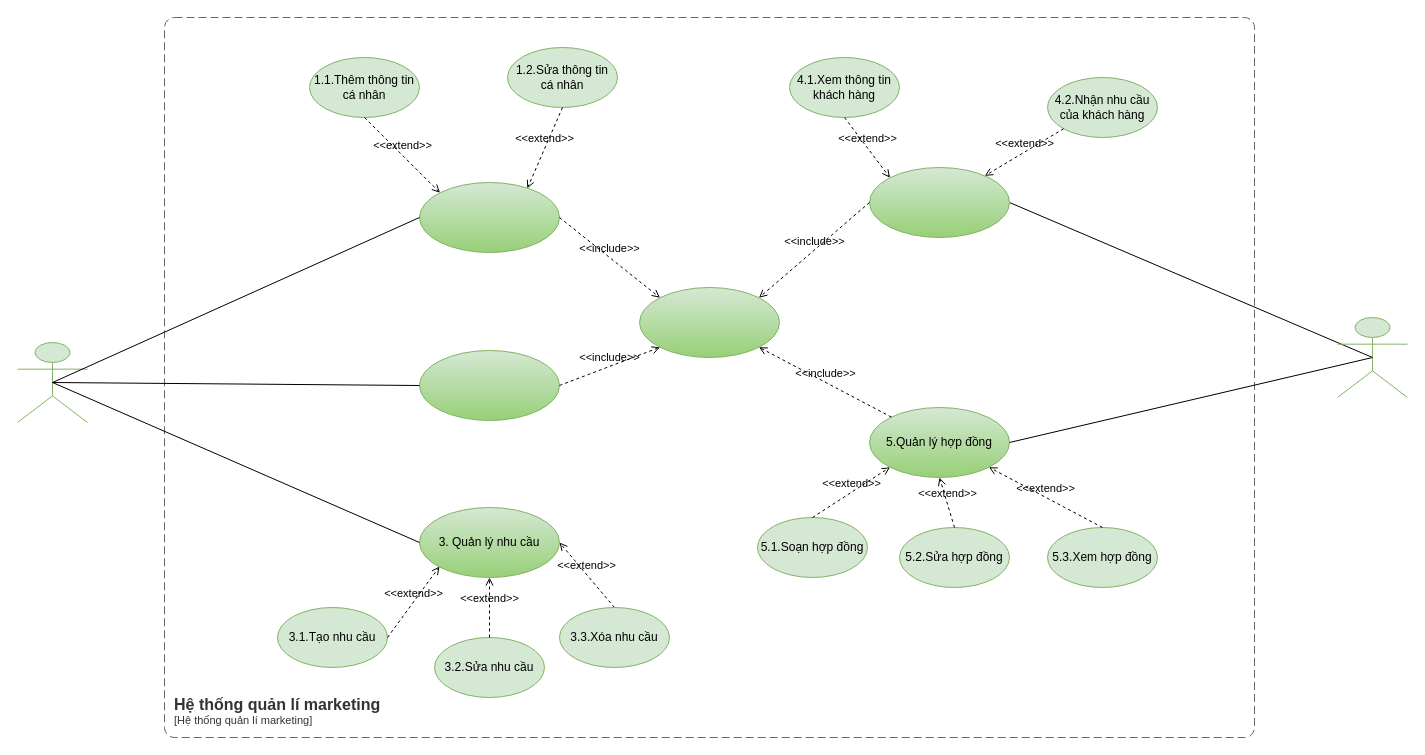
This 1425x755 diagram has some shape labels left out. The centre of each missing label's shape, as x and y in pixels:
"1.Quản lý thông tin cá nhân" goes at point 489,217.
"2.Tìm dịch vụ MKT phù hợp" goes at point 489,385.
"4.Quản lí thông tin khách hàng" goes at point 939,202.
"6.Đăng nhập vào hệ thống" goes at point 709,322.
"Khách hàng" goes at point 52,382.
"Nhân viên" goes at point 1372,357.
